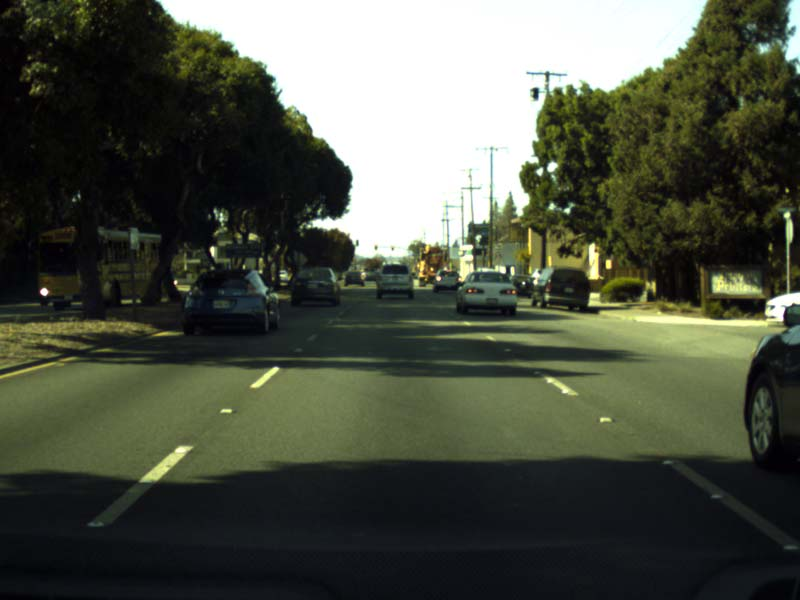Red: (390, 244, 394, 250)
